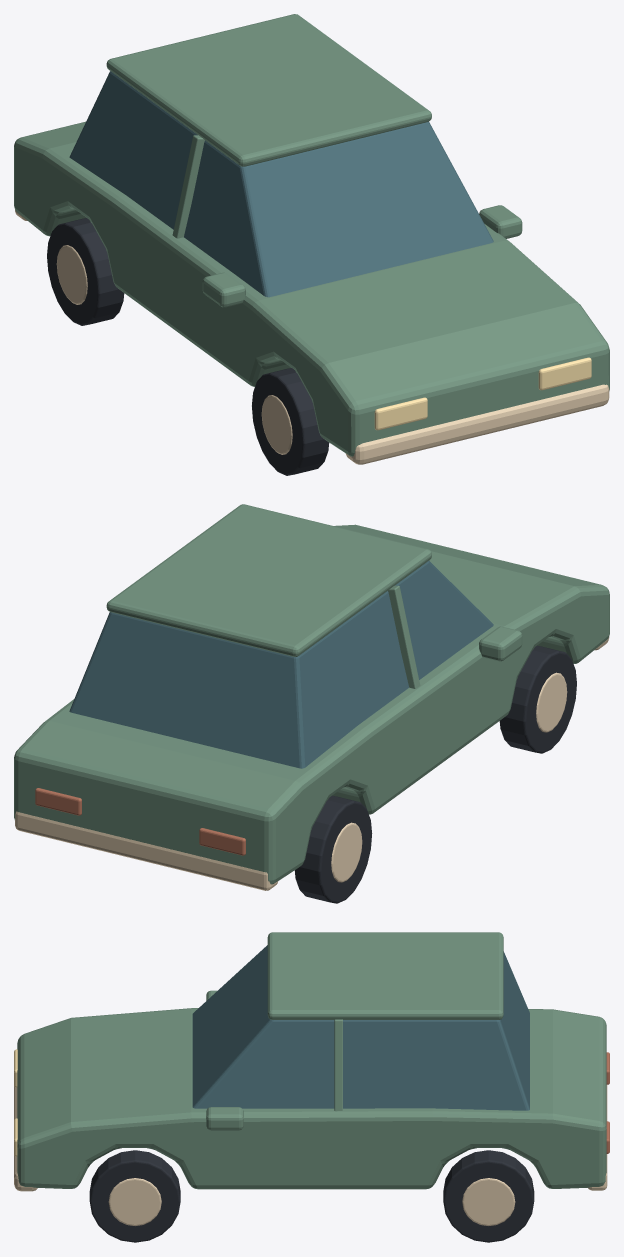
Rendered from car-city-builder.glb.
3 views of the same model, one above another, from view 1: azimuth 30°, elevation 25°; view 2: azimuth 150°, elevation 25°; view 3: azimuth 270°, elevation 25° (orthographic). The views are drawn at different scales.
Visible parts, largest first — view 1: car-city-builder; view 2: car-city-builder; view 3: car-city-builder.
Boxes of the visible parts, bbox=[...] form: car-city-builder: bbox=[14, 14, 609, 475]; car-city-builder: bbox=[14, 504, 609, 903]; car-city-builder: bbox=[14, 932, 609, 1242].
Bounding box in the file's own units: 2.25 × 1.76 × 4.45.
